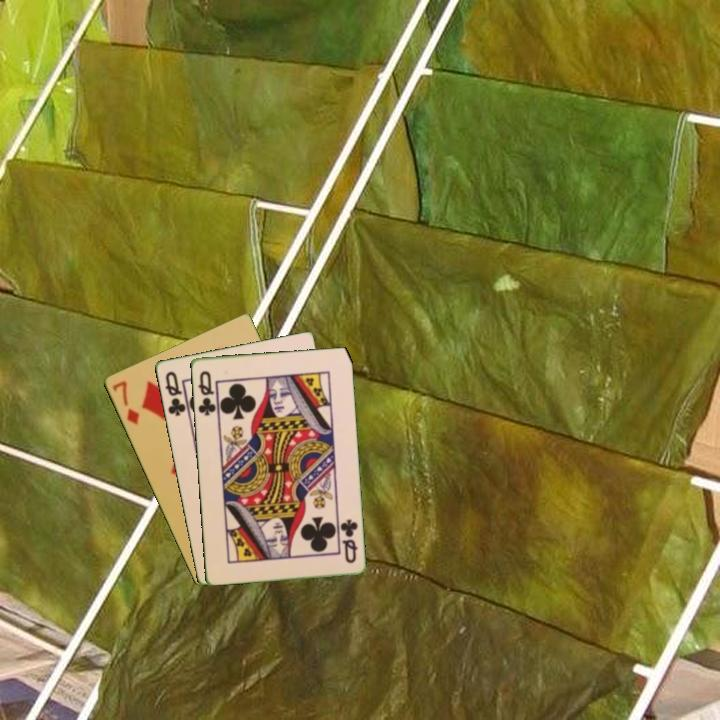7d: (108, 377, 142, 427)
Qc: (161, 367, 191, 419), (194, 367, 219, 418), (337, 516, 360, 566)
